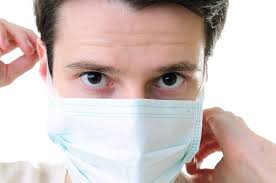mask: (37, 1, 212, 182)
